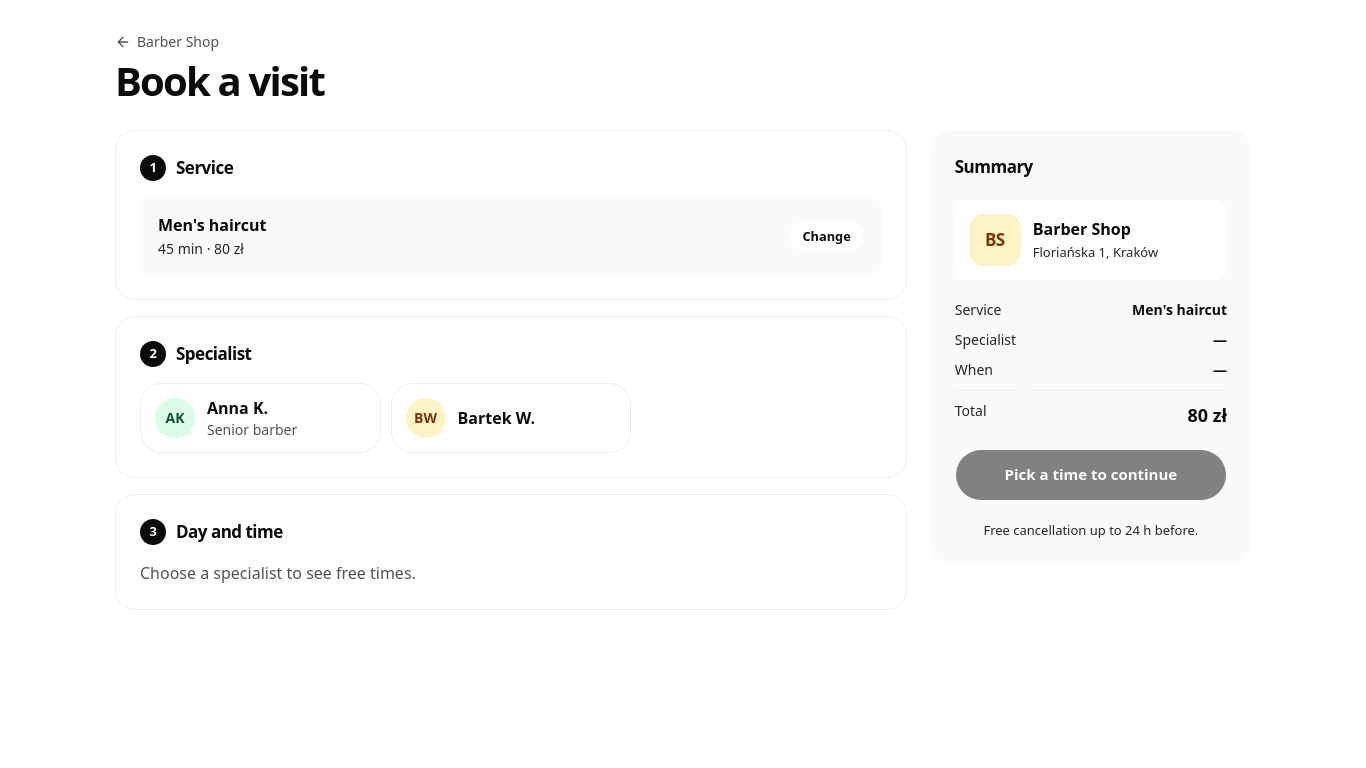
it: BookingPage › clears the picked time when the specialist changes
The image size is (1366, 768).
Click the button "AK Anna K. Senior barber". click: (260, 418)
box: [140,383,381,453]
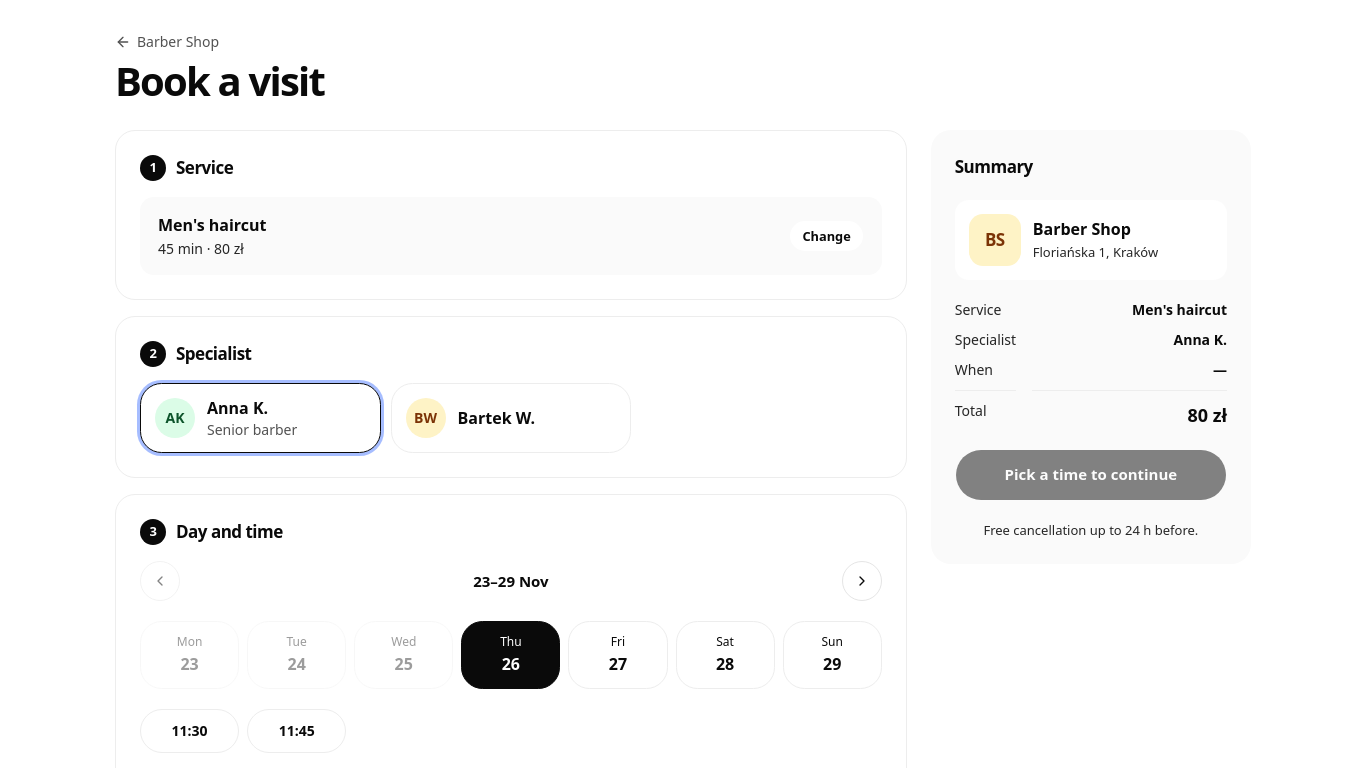
Click the button "11:30". click: (190, 731)
box: [140,709,239,753]
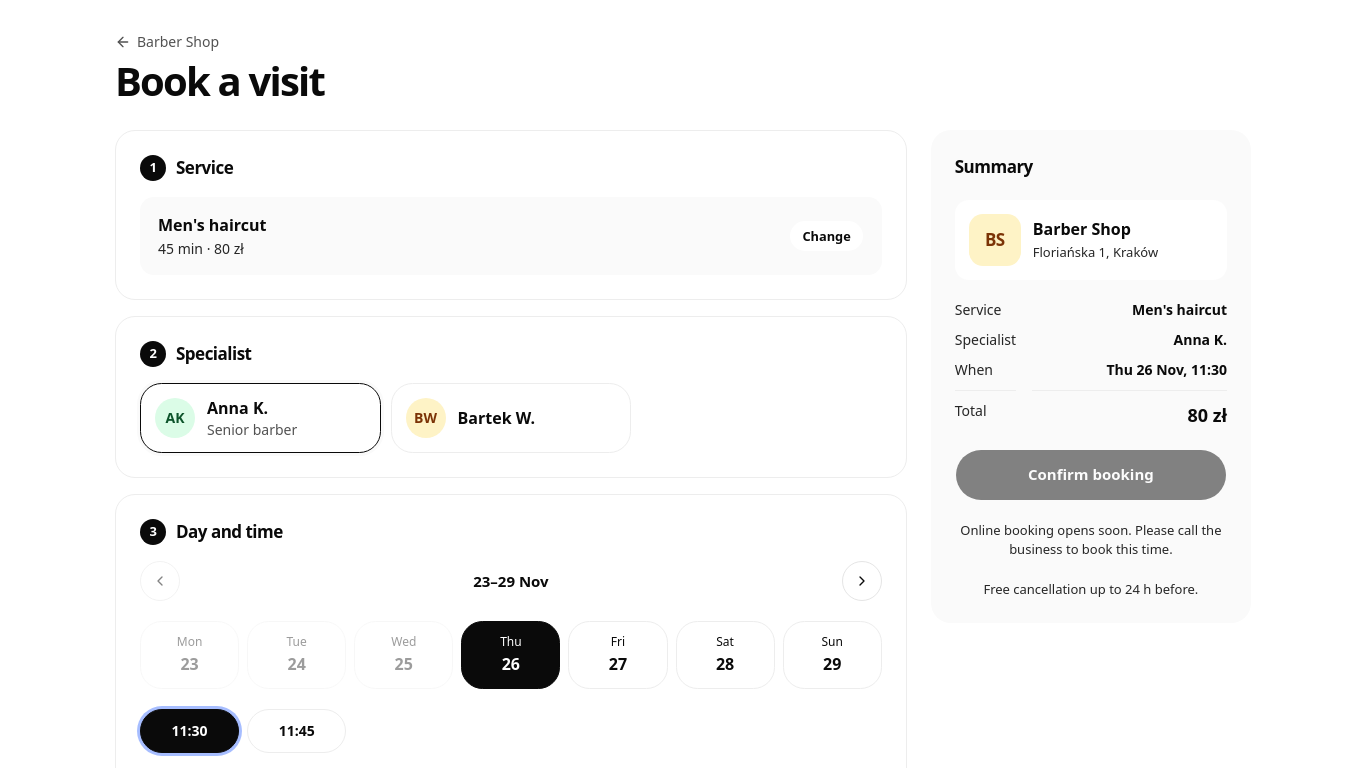
Expected: the text "Thu 26 Nov, 11:30" is shown, [1106,360,1227,378]
Click the button "Bartek W.". click: (511, 418)
box: [391,383,631,453]
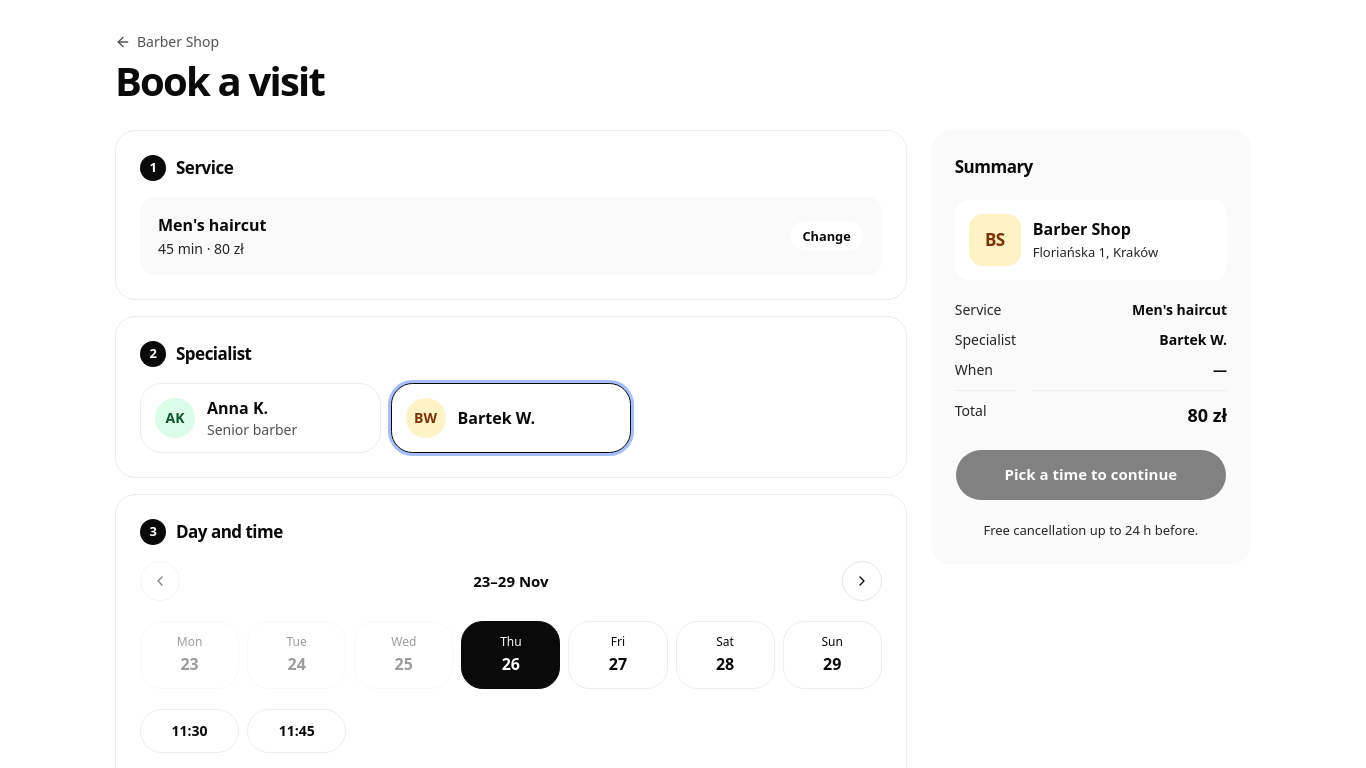
Expected: the button "Pick a time to continue" is disabled, [955,448,1227,500]
Expected: the text "Thu 26 Nov, 11:30" is gone
